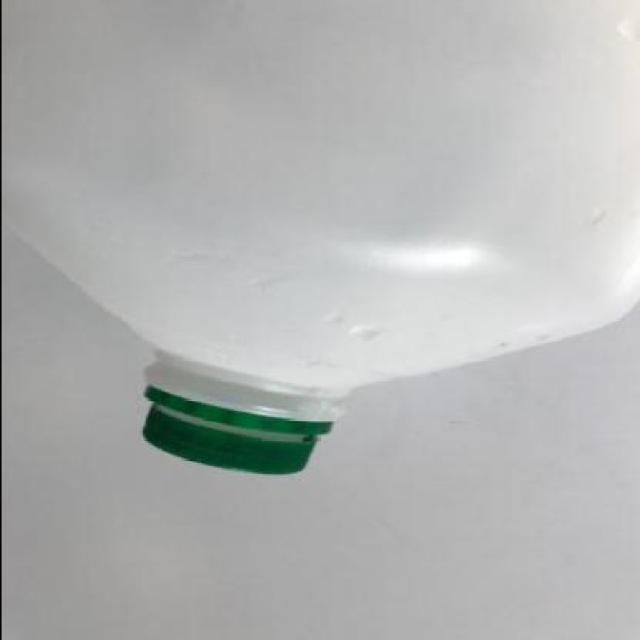PLASTIC: (1, 0, 638, 477), (140, 381, 334, 477)
